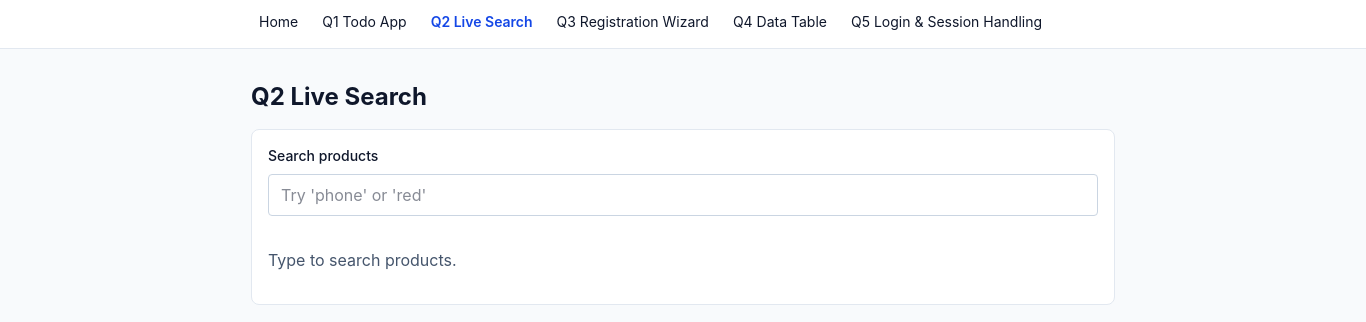
it: search page: result states › names the query when nothing matches it
Type "xyz" into the search field labelled "Search products" at {"x": 683, "y": 195}, box [268,174,1098,216]
Wait 300 ms
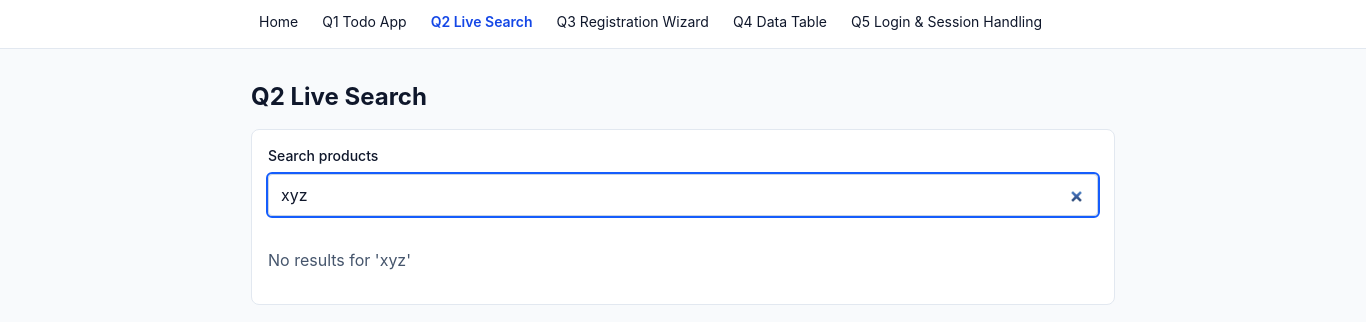
Expected: the text "No results for 'xyz'" is shown, [268,250,411,270]
